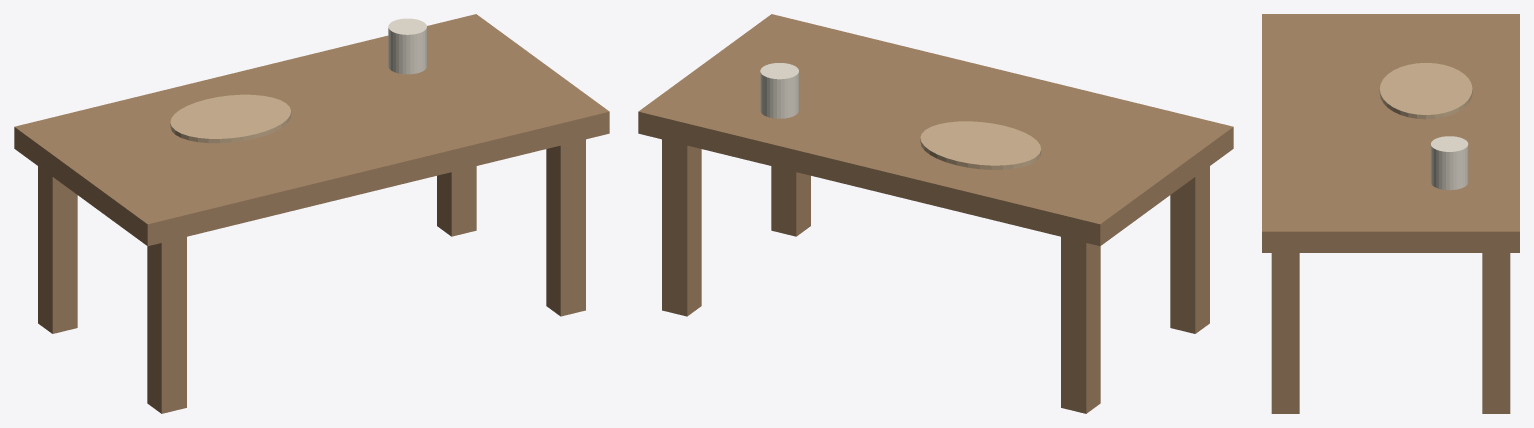
File: workbench.glb
3 views of the same model, side by side, from view 1: azimuth 30°, elevation 25°; view 2: azimuth 150°, elevation 25°; view 3: azimuth 270°, elevation 25° (orthographic). The views are drawn at different scales.
Parts seen in each view (by area): view 1: Desk_Top, Cube.001, Cube, Cube.002, Palette, Cube.003, BrushPot; view 2: Desk_Top, Cube.003, Cube.002, Cube, Palette, Cube.001, BrushPot; view 3: Desk_Top, Cube.001, Cube.003, Palette, BrushPot.
Boxes of the visible parts, bbox=[...] form: Desk_Top: bbox=[14, 14, 609, 246]; Cube.001: bbox=[546, 139, 585, 316]; Cube: bbox=[147, 237, 186, 413]; Cube.002: bbox=[38, 166, 77, 333]; Palette: bbox=[170, 94, 291, 143]; Cube.003: bbox=[437, 166, 476, 236]; BrushPot: bbox=[388, 18, 426, 74]; Desk_Top: bbox=[638, 14, 1233, 246]; Cube.003: bbox=[662, 139, 701, 316]; Cube.002: bbox=[1061, 237, 1100, 413]; Cube: bbox=[1170, 166, 1209, 333]; Palette: bbox=[920, 121, 1041, 169]; Cube.001: bbox=[771, 166, 810, 236]; BrushPot: bbox=[760, 63, 798, 118]; Desk_Top: bbox=[1262, 14, 1519, 252]; Cube.001: bbox=[1271, 253, 1299, 413]; Cube.003: bbox=[1482, 253, 1510, 413]; Palette: bbox=[1379, 63, 1472, 119]; BrushPot: bbox=[1430, 136, 1468, 190].
Size of the model in its own units: 2.2 by 1.08 by 1.1.
